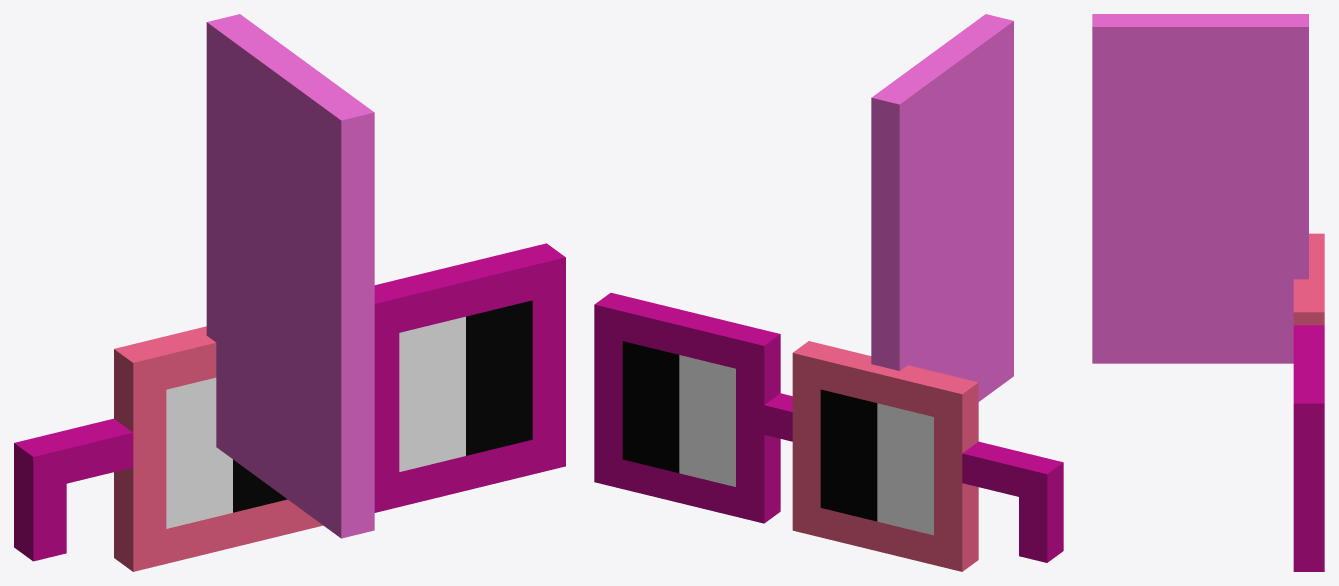
File: donut___wip.glb
3 renders of one model, left to right at view 1: azimuth 30°, elevation 25°; view 2: azimuth 150°, elevation 25°; view 3: azimuth 270°, elevation 25°, orthographic. The views are drawn at different scales.
Parts seen in each view (by area): view 1: donut, monture, glass (1); view 2: monture, donut, glass (1); view 3: donut, monture.
Part boxes in pixels (x1,y1,x2,y2): donut: (206, 14, 374, 538); monture: (14, 243, 565, 571); glass (1): (166, 300, 532, 528); monture: (594, 292, 1063, 571); donut: (871, 14, 1013, 401); glass (1): (622, 341, 933, 535); donut: (1092, 14, 1308, 363); monture: (1293, 233, 1324, 571).
Size of the model in its own units: 16 by 15 by 7.5.
Materials: 7 (7 with a texture image).
